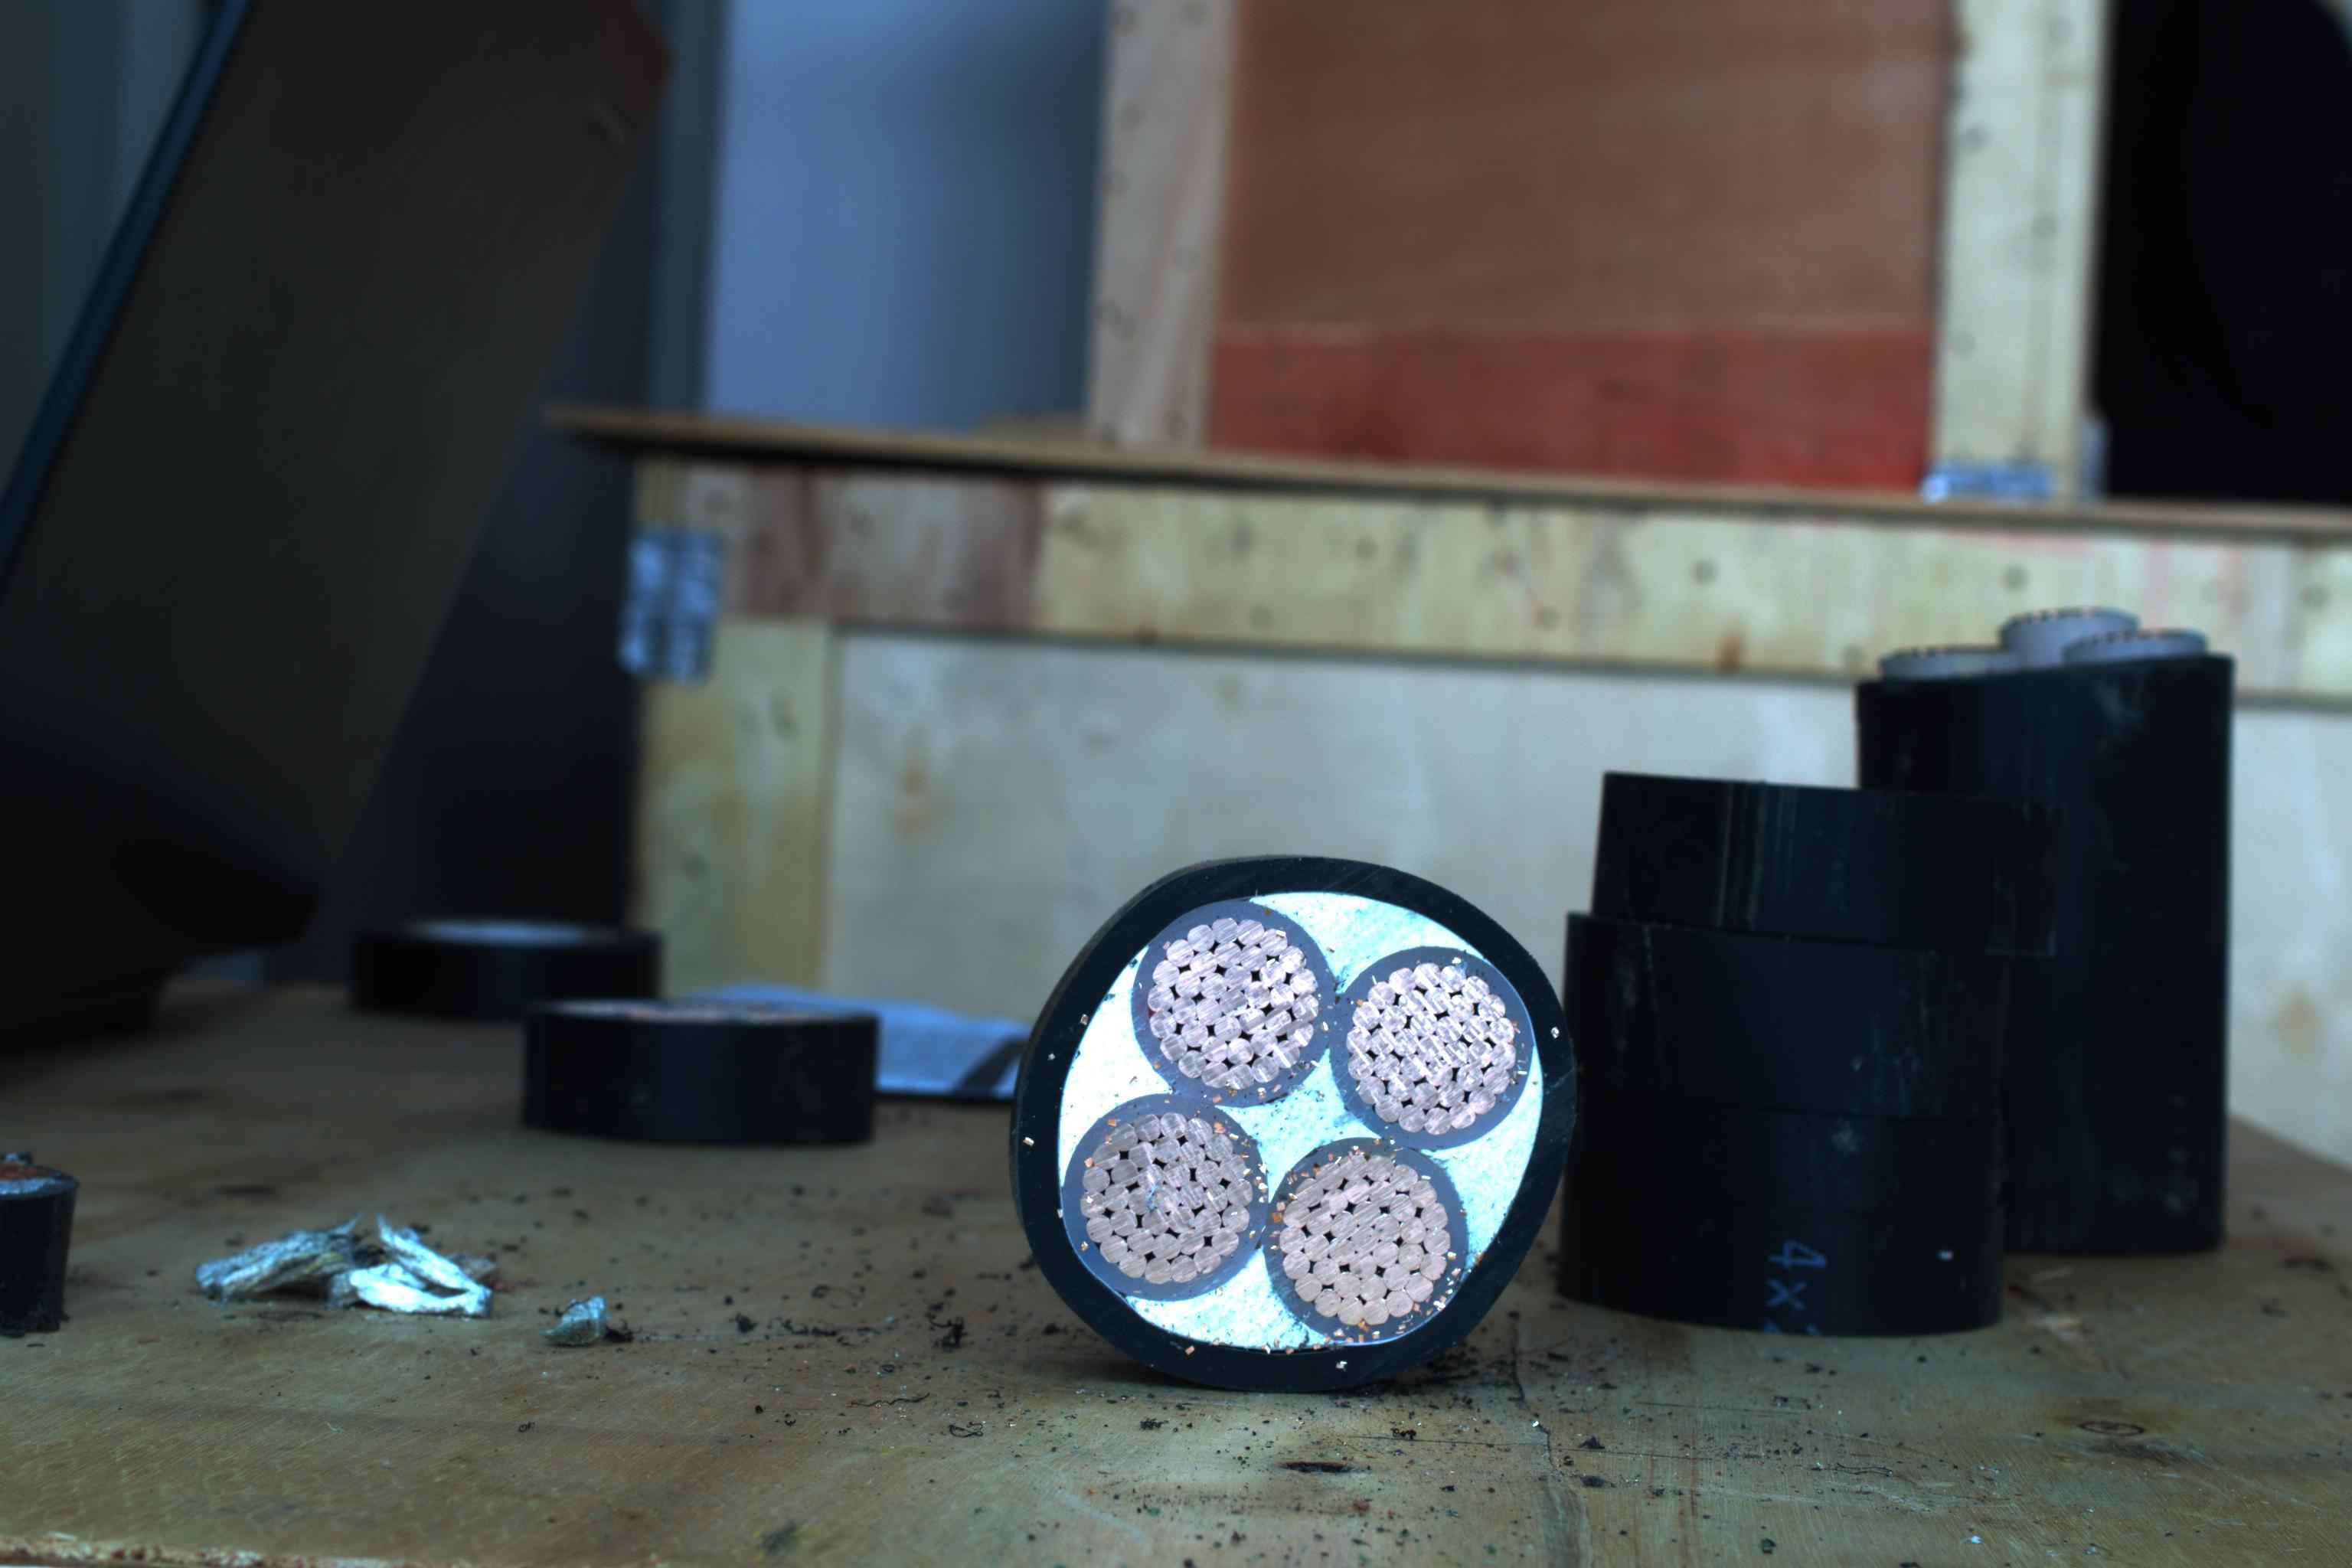YJV_0.6_1kV_4x240: (987, 861, 1615, 1384)
